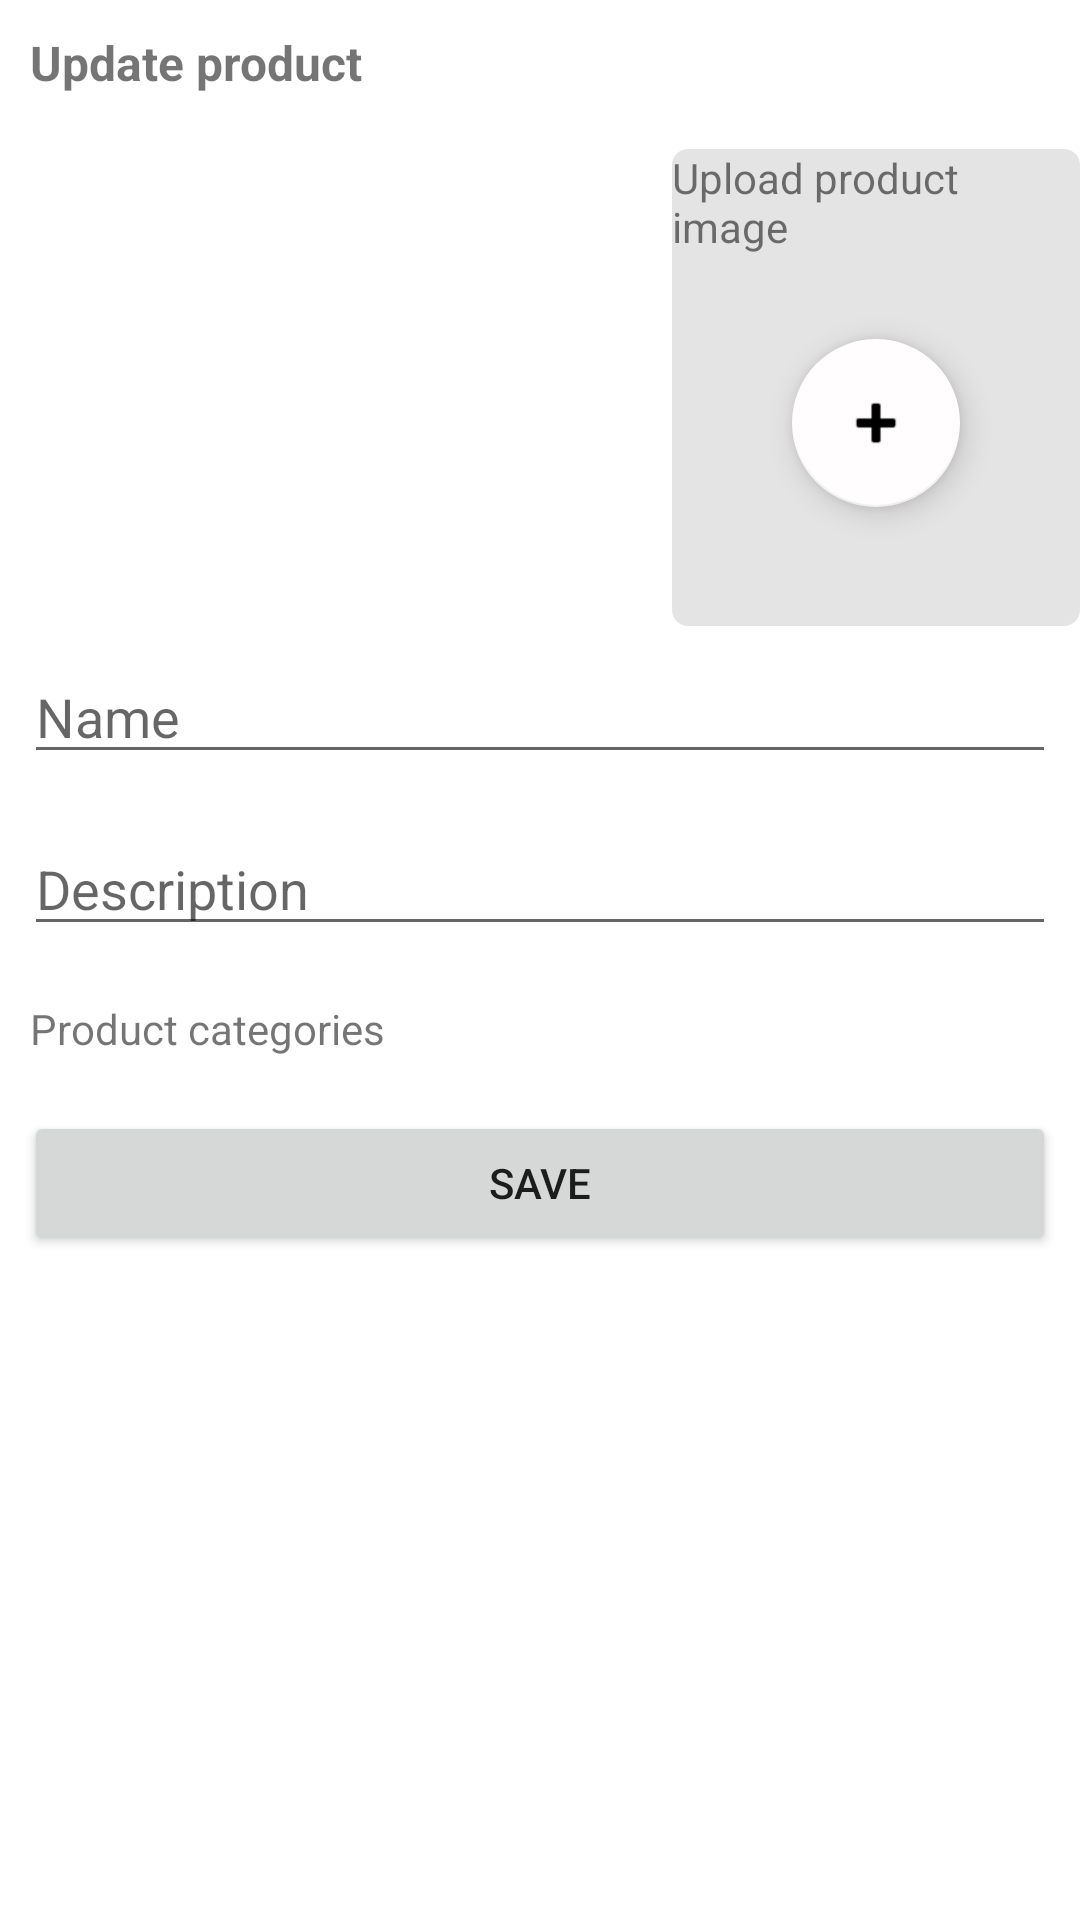

Locate icon controls on the screen. Image size 1080×1920, boxes as (x1,y1,x2,y2).
add: (792,339,960,507)
